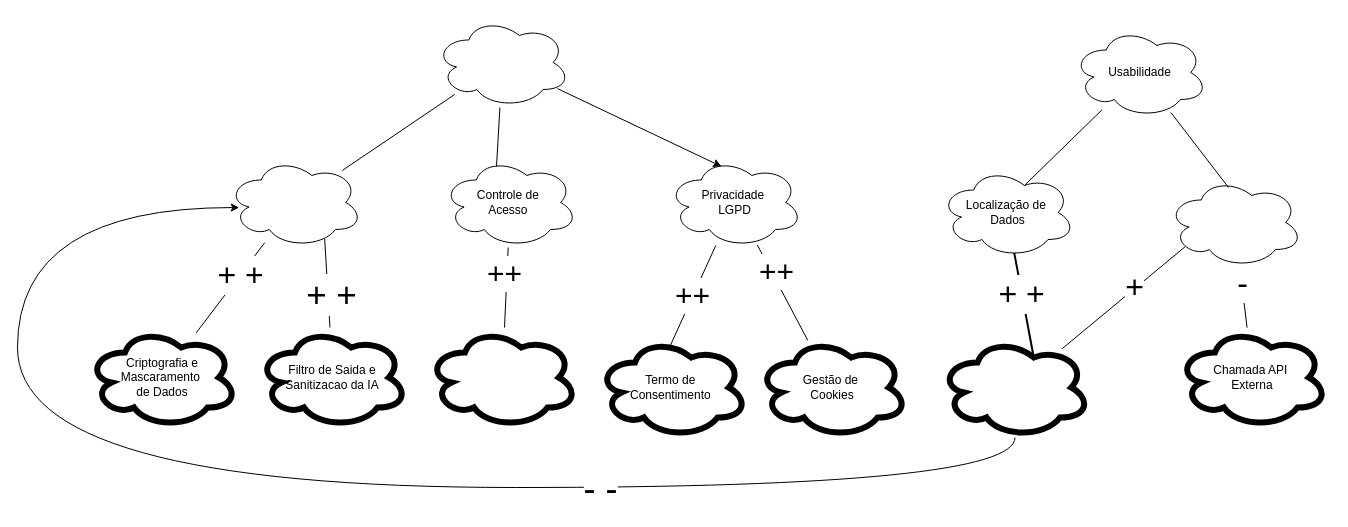
The diagram is 1348 pixels wide and 527 high, and some of its shapes have lost their labels. The centre of each missing label's shape, as x and y in pixels:
"Confidencialidade" belongs at [294,202].
"Controle de acesso baseado em papeis" belongs at [502,377].
"IA com leitura e Extração de Historicos" belongs at [1014,387].
"Segurança" belongs at [502,62].
"Velocidade de Acesso" belongs at [1234,222].
